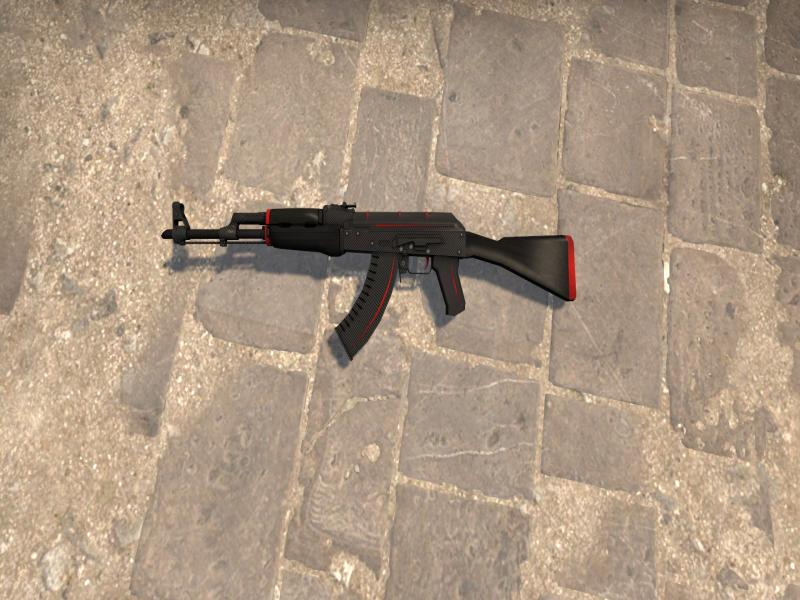AK47: (162, 201, 577, 358)
